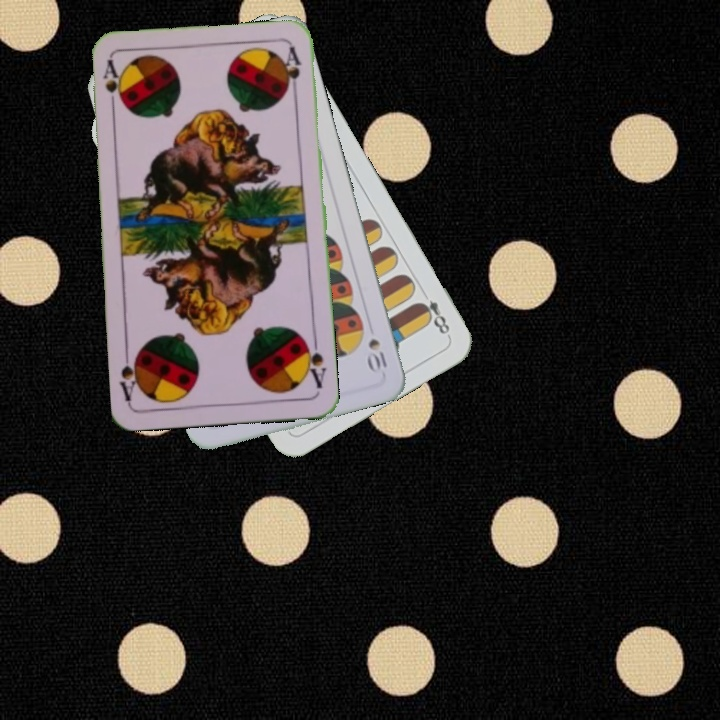E8: (413, 285, 453, 339)
S10: (364, 334, 390, 373)
SA: (299, 333, 329, 391), (98, 56, 125, 115)
